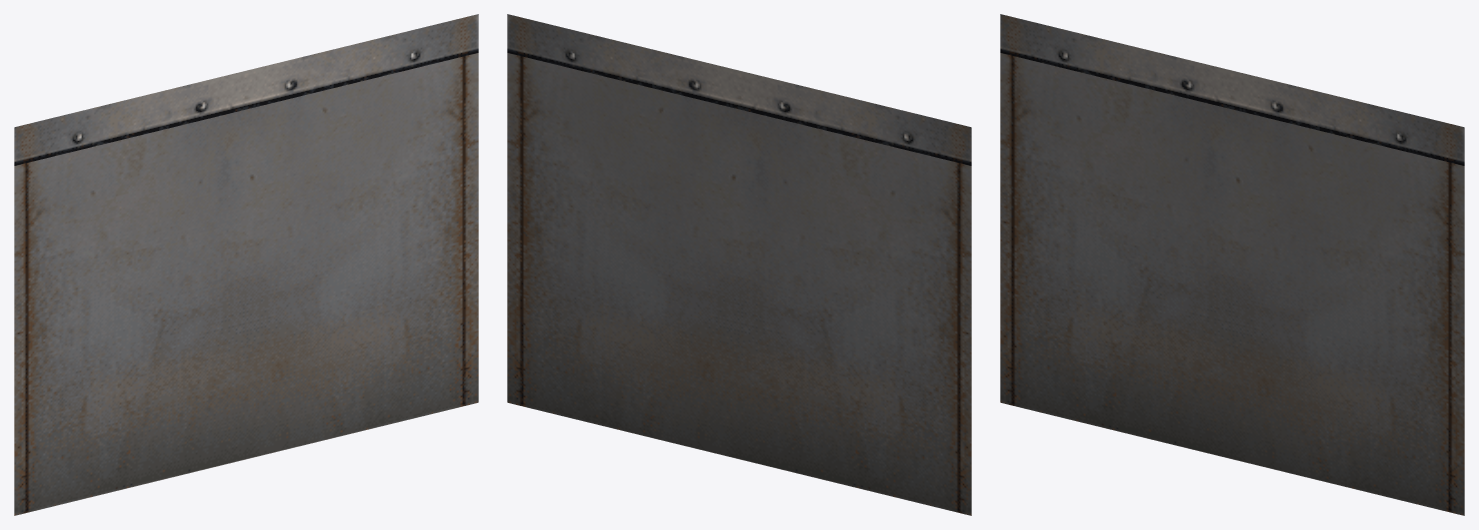
Rendered from SM_BLD_WALLROOM_02.fbx.
3 views of the same model, side by side, from view 1: azimuth 30°, elevation 25°; view 2: azimuth 150°, elevation 25°; view 3: azimuth 330°, elevation 25° (orthographic).
Visible parts, largest first — view 1: SM_BLD_WALLROOM_02; view 2: SM_BLD_WALLROOM_02; view 3: SM_BLD_WALLROOM_02.
Boxes of the visible parts, x1,y1,x2,y2 form: SM_BLD_WALLROOM_02: (14,14,478,515); SM_BLD_WALLROOM_02: (507,14,971,515); SM_BLD_WALLROOM_02: (1000,14,1464,515).
Size of the model in its own units: 5 by 4 by 0.
